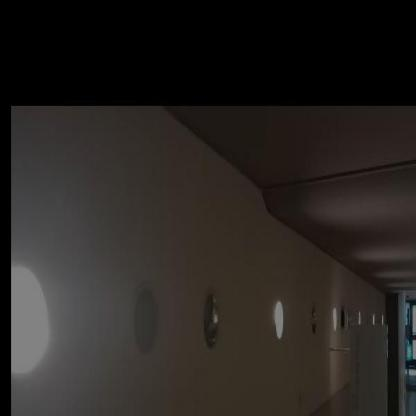light_off: (195, 266, 226, 370), (302, 284, 321, 352), (338, 299, 348, 340)
